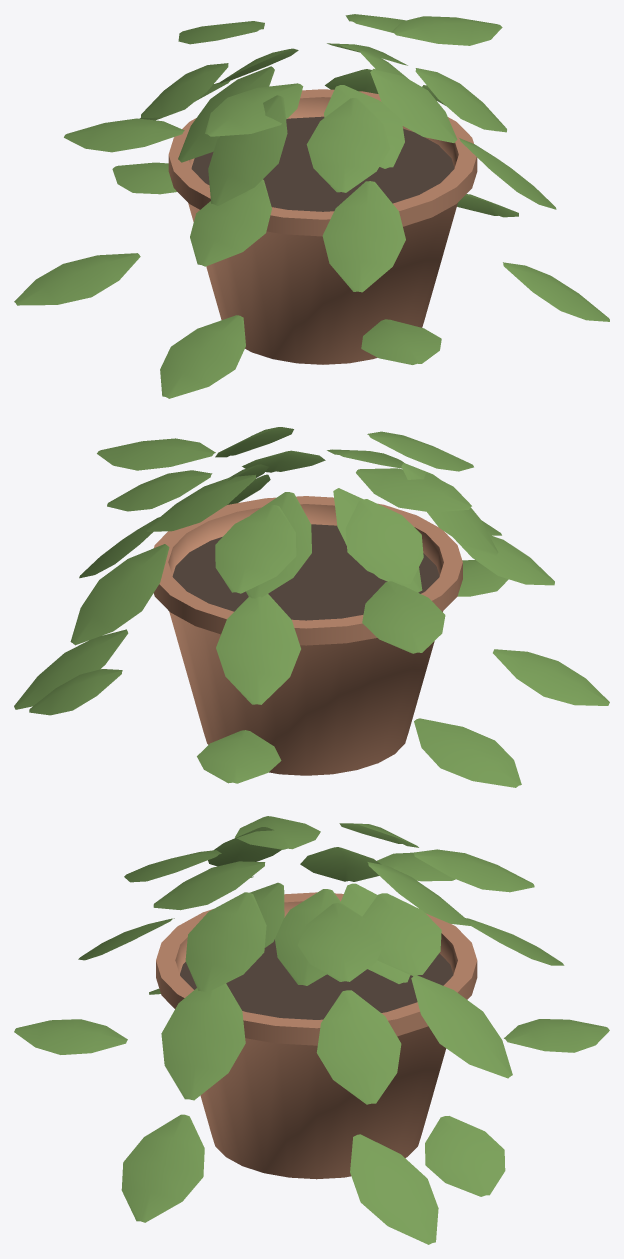
The model's file is X14_DRESS_Plant_Pothos_Small.glb.
3 renders of one model, top to bottom at view 1: azimuth 30°, elevation 25°; view 2: azimuth 150°, elevation 25°; view 3: azimuth 270°, elevation 25°, orthographic. The views are drawn at different scales.
Parts seen in each view (by area): view 1: X14_DRESS_Plant_Pothos_Small_LOD0; view 2: X14_DRESS_Plant_Pothos_Small_LOD0; view 3: X14_DRESS_Plant_Pothos_Small_LOD0.
Boxes of the visible parts, box(x1,y1,x2,y2) form: X14_DRESS_Plant_Pothos_Small_LOD0: box(14, 14, 609, 398); X14_DRESS_Plant_Pothos_Small_LOD0: box(14, 427, 609, 787); X14_DRESS_Plant_Pothos_Small_LOD0: box(14, 816, 609, 1244).
Size of what is drawn, in the model's own units: 0.3385 by 0.172 by 0.3405.
